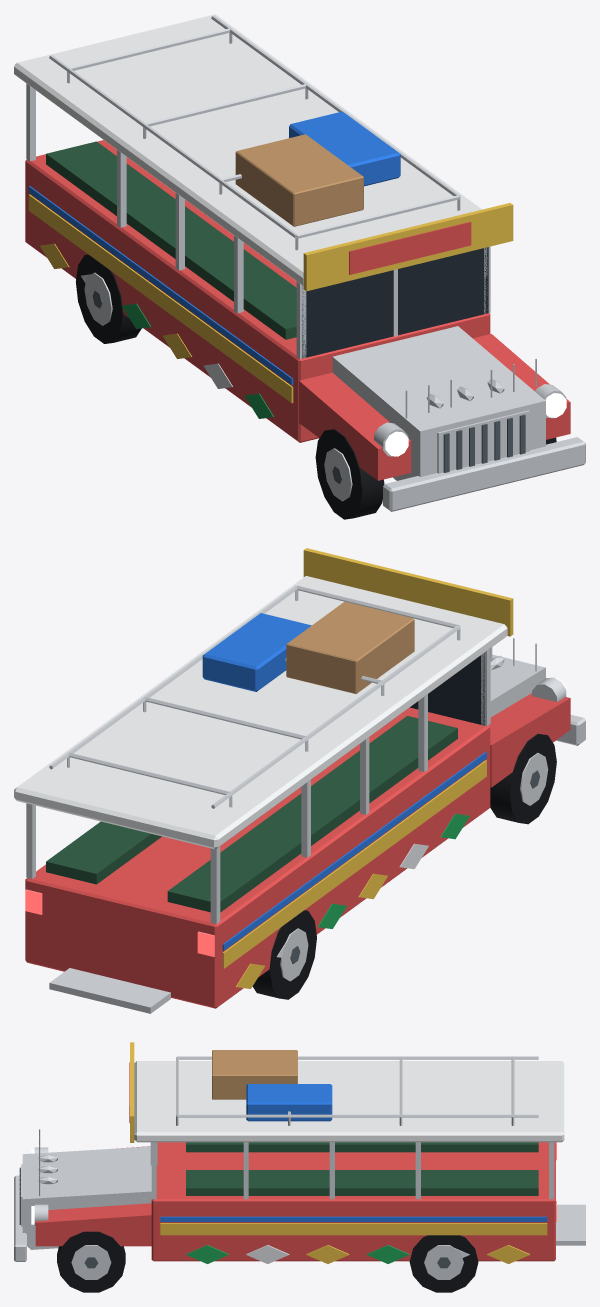
File: jeepney.glb
3 renders of one model, top to bottom at view 1: azimuth 30°, elevation 25°; view 2: azimuth 150°, elevation 25°; view 3: azimuth 270°, elevation 25°, orthographic. The views are drawn at different scales.
Parts seen in each view (by area): view 1: jeepney; view 2: jeepney; view 3: jeepney.
Part boxes in pixels (left/top/right/bottom): jeepney: left=14, top=14, right=585, bottom=519; jeepney: left=14, top=548, right=585, bottom=1013; jeepney: left=14, top=1042, right=585, bottom=1292.
Size of the model in its own units: 2.04 by 2.39 by 6.65.
